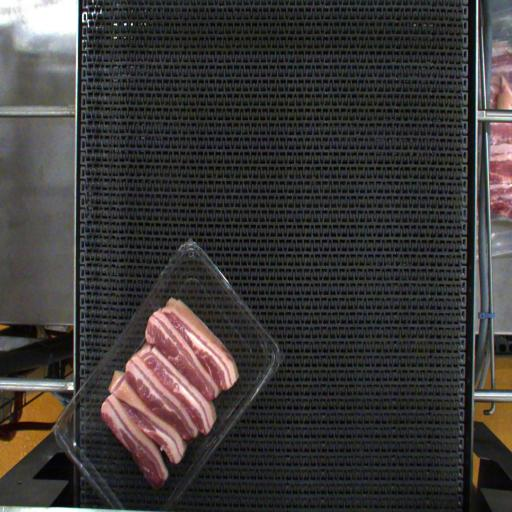twisted-meat: (110, 361, 146, 455)
